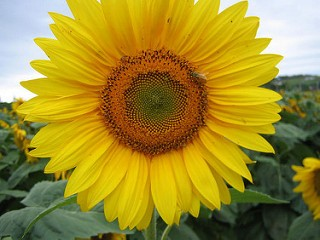flower: (12, 0, 283, 233)
